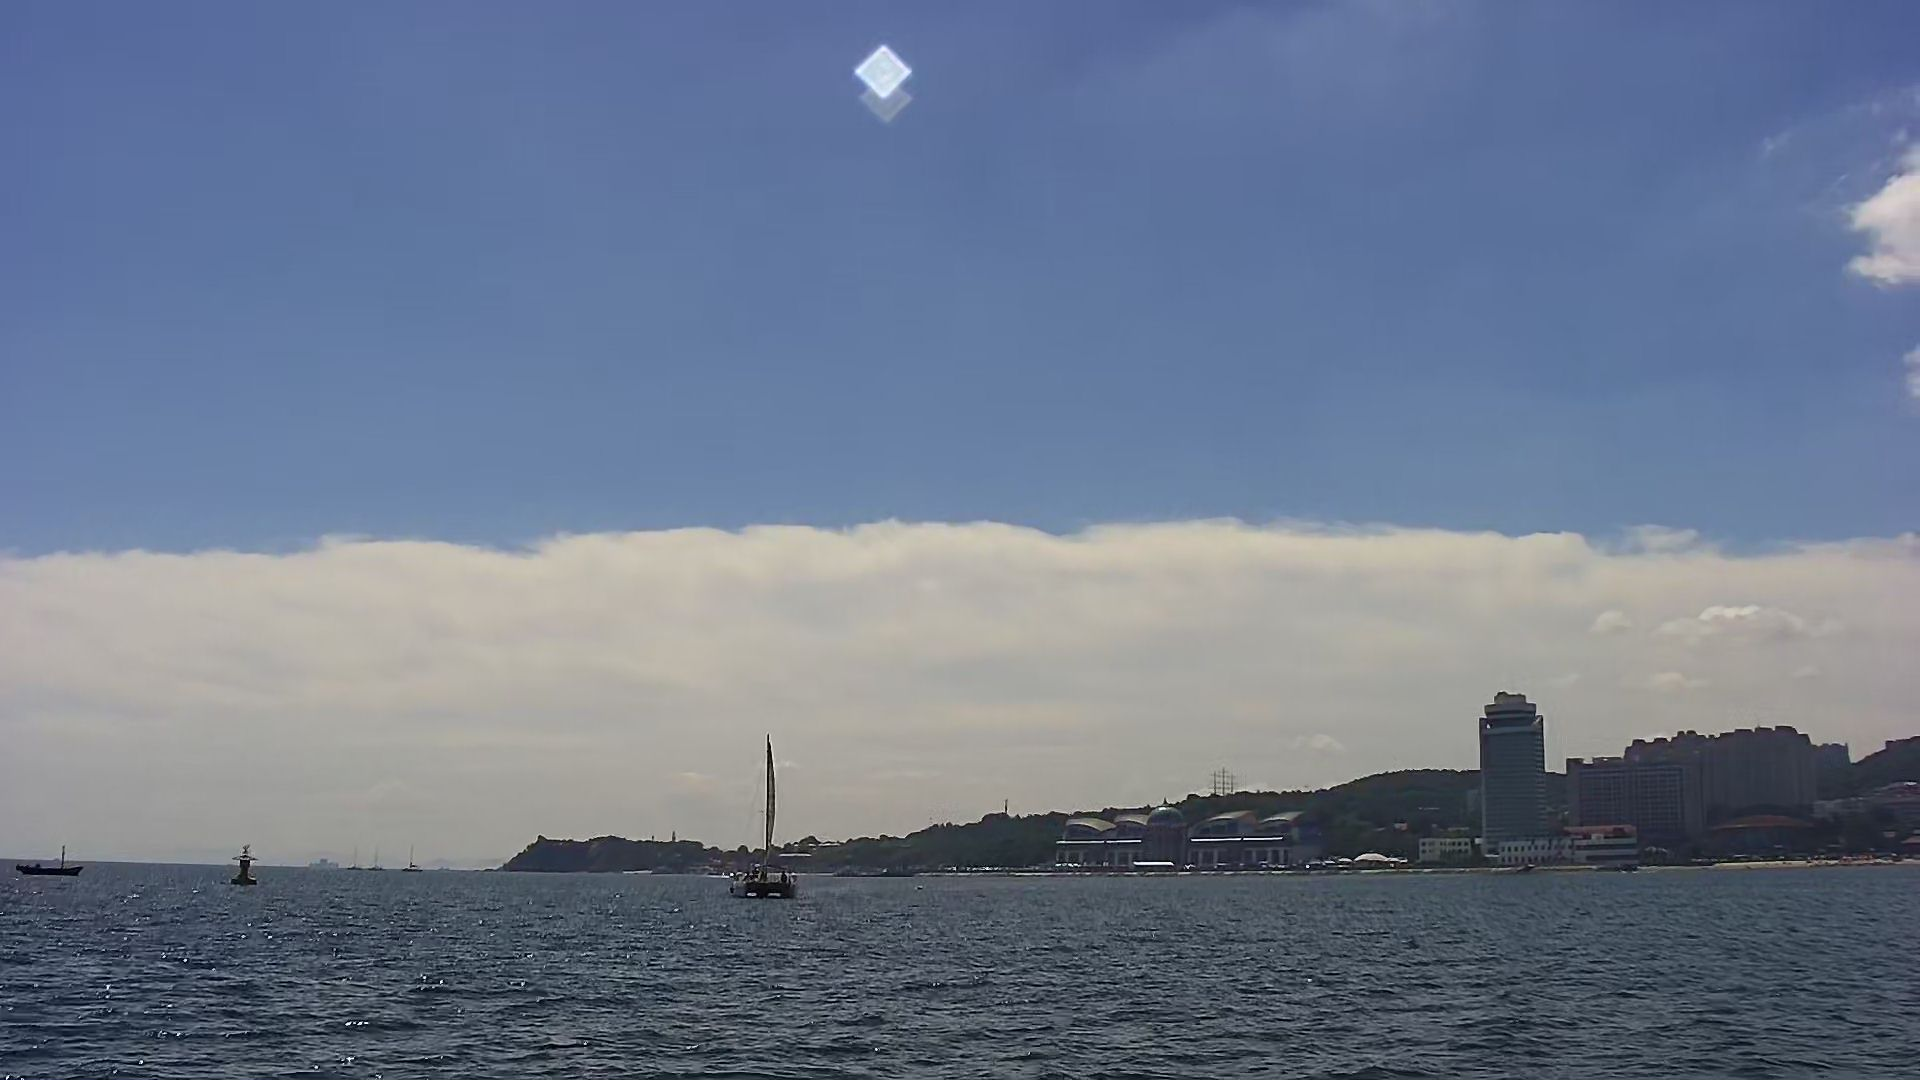boat: (731, 735, 800, 906), (15, 837, 90, 878)
buoy: (225, 843, 266, 891)
